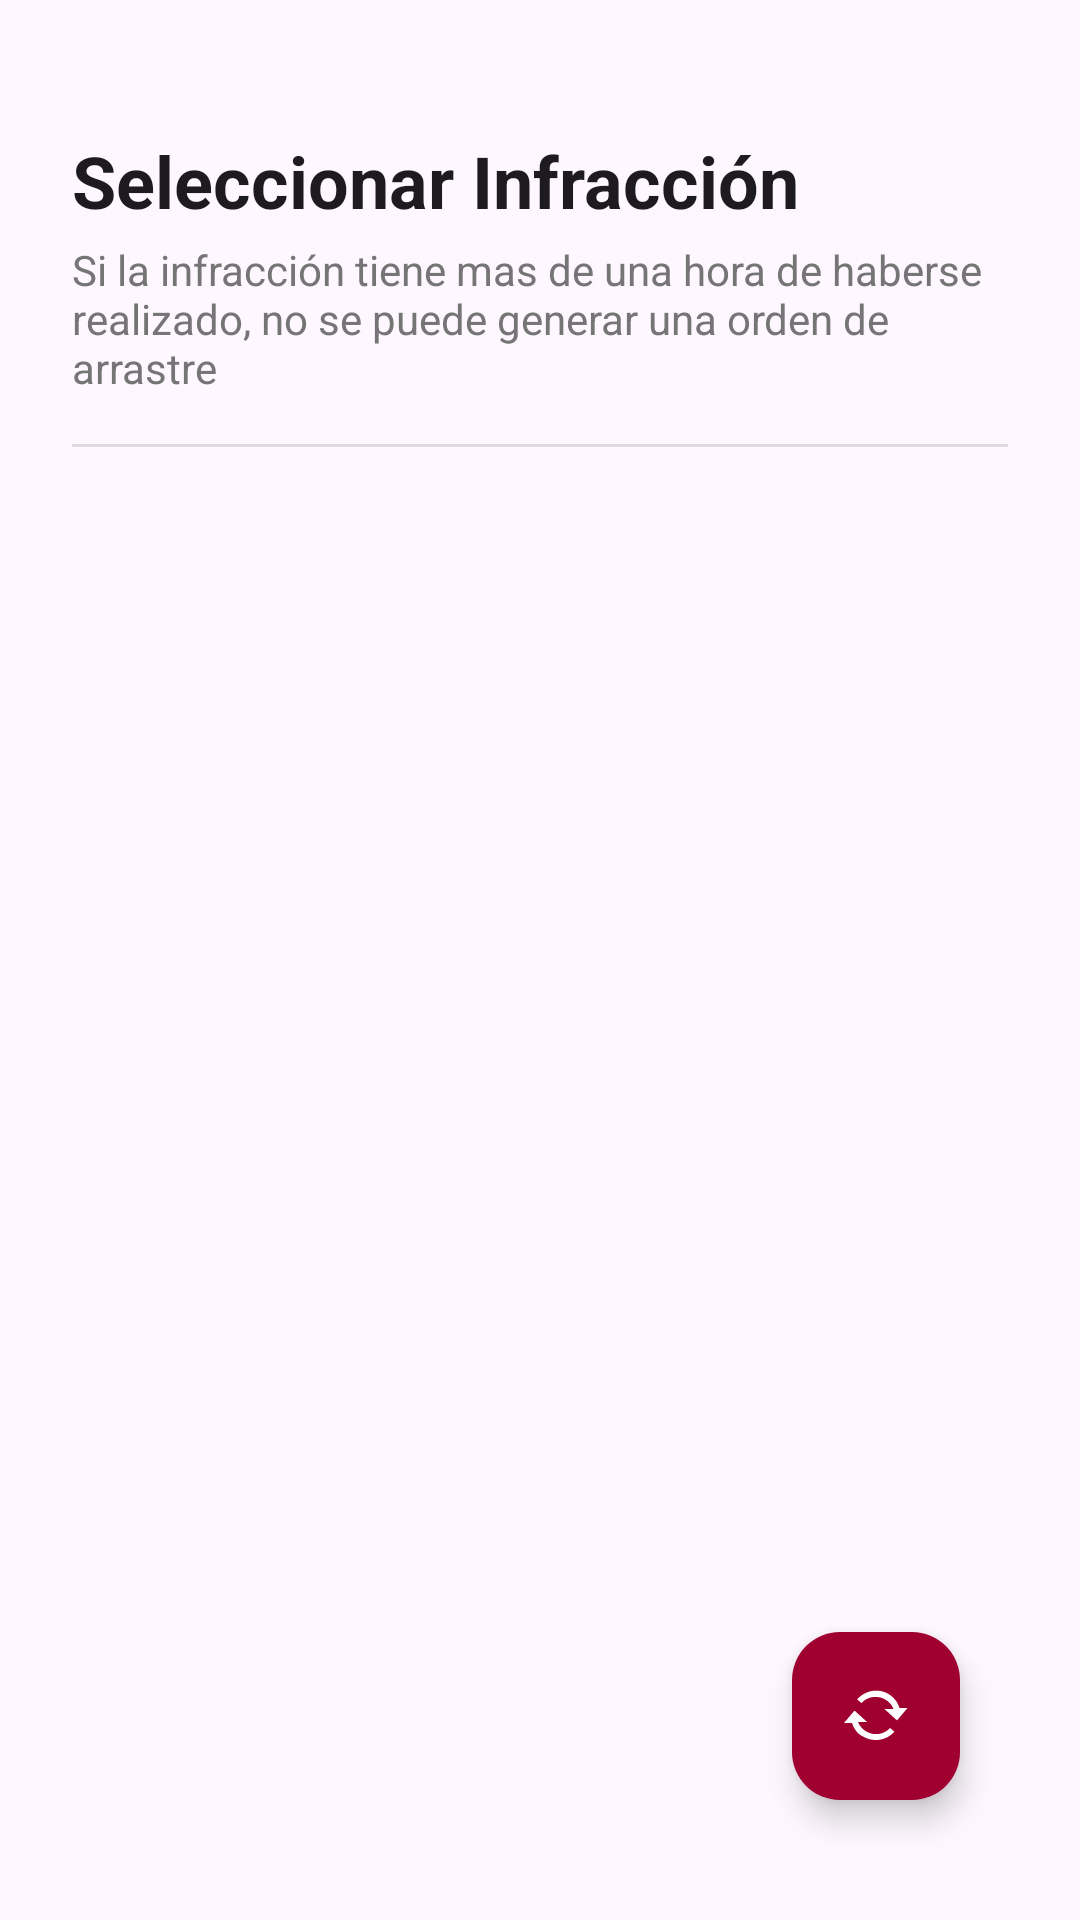

Locate icon controls on the screen. Image size 1080px×1920px, boxes as (x1,y1,x2,y2).
Actualizar: (792,1632,960,1800)
